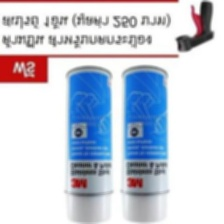aerosol_cans: (116, 63, 173, 223), (64, 63, 115, 223)
